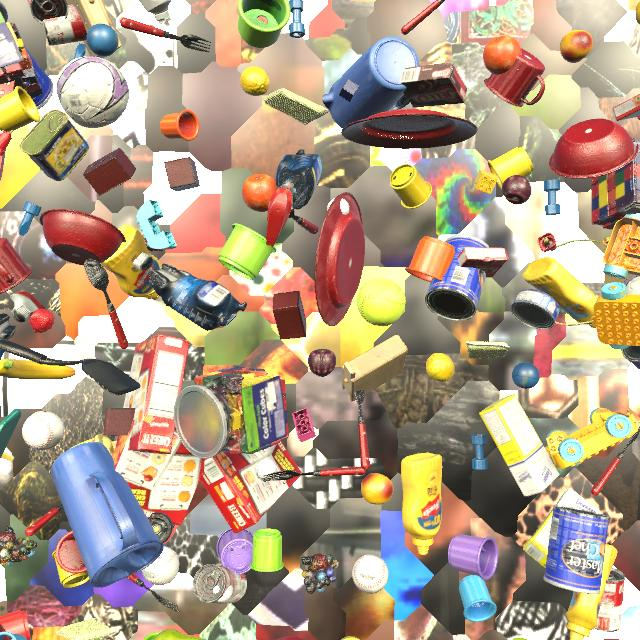ycb_002_master_chef_can: (543, 505, 610, 594), (425, 235, 489, 321), (24, 46, 54, 109), (621, 346, 640, 370)
ycb_003_cracker_box: (112, 420, 205, 526), (200, 440, 302, 534), (116, 334, 189, 454), (0, 81, 15, 181)
ycb_004_sugar_box: (479, 394, 560, 497), (523, 488, 603, 568)
ycb_005_tomato_soup_can: (193, 564, 247, 604), (594, 568, 625, 632), (43, 5, 87, 46), (28, 0, 69, 24)
ycb_006_mustard_bottle: (522, 257, 598, 328), (566, 544, 617, 640), (101, 225, 161, 300), (401, 453, 442, 555)
ycb_007_tuna_fish_can: (510, 289, 560, 330)
ycb_008_pudding_box: (399, 62, 467, 108)
ycb_009_gelatin_box: (457, 247, 509, 277), (612, 94, 640, 121)
ycb_010_potted_meat_can: (19, 110, 89, 181)
ycb_011_banana: (0, 359, 75, 380)
ycb_012_strawberry: (29, 309, 55, 333)
ycb_013_apple: (603, 638, 620, 640)
ycb_014_lemon: (240, 66, 270, 96), (426, 353, 455, 382)
ycb_015_peach: (560, 30, 593, 63), (361, 473, 393, 505), (635, 2, 640, 25)
ycb_016_pear: (154, 629, 203, 640)
ycb_017_orange: (483, 36, 522, 75), (242, 174, 278, 212)
ycb_018_plum: (502, 175, 532, 204), (308, 349, 336, 377)
